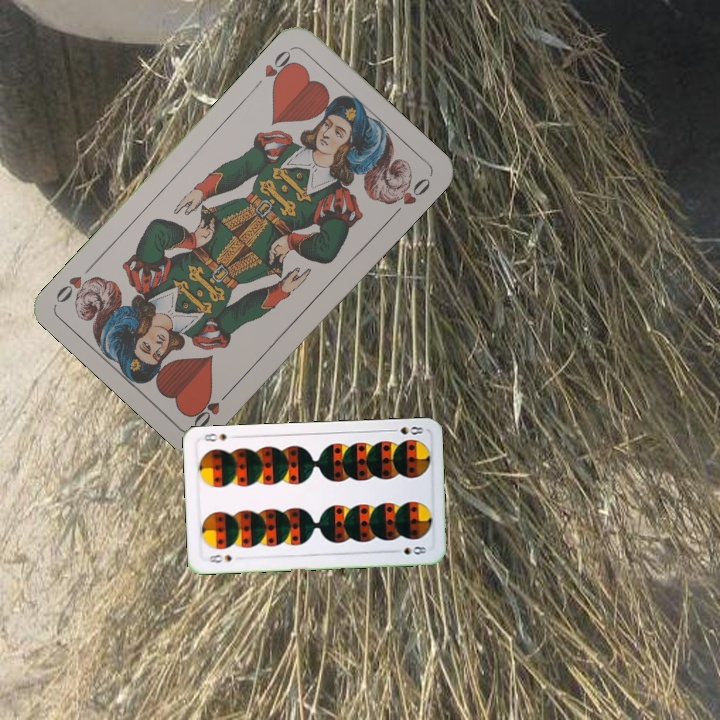HO: (250, 45, 298, 92), (188, 384, 235, 432)
S8: (385, 422, 426, 439), (205, 550, 235, 565)
